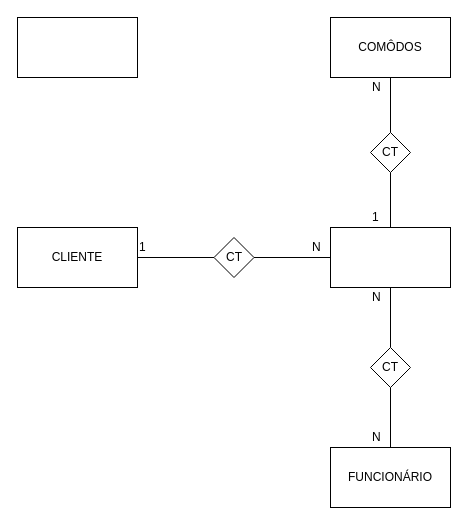
Image size: 468x525. Some labels were removed from this diagram. The shapes that lost their labels are listed below. From the top down, each one's box as (x1, y1, x2, y2) in pixels, then its label:
(16, 16, 138, 78): CONCEITUAL
(330, 226, 450, 288): SERVIÇO
